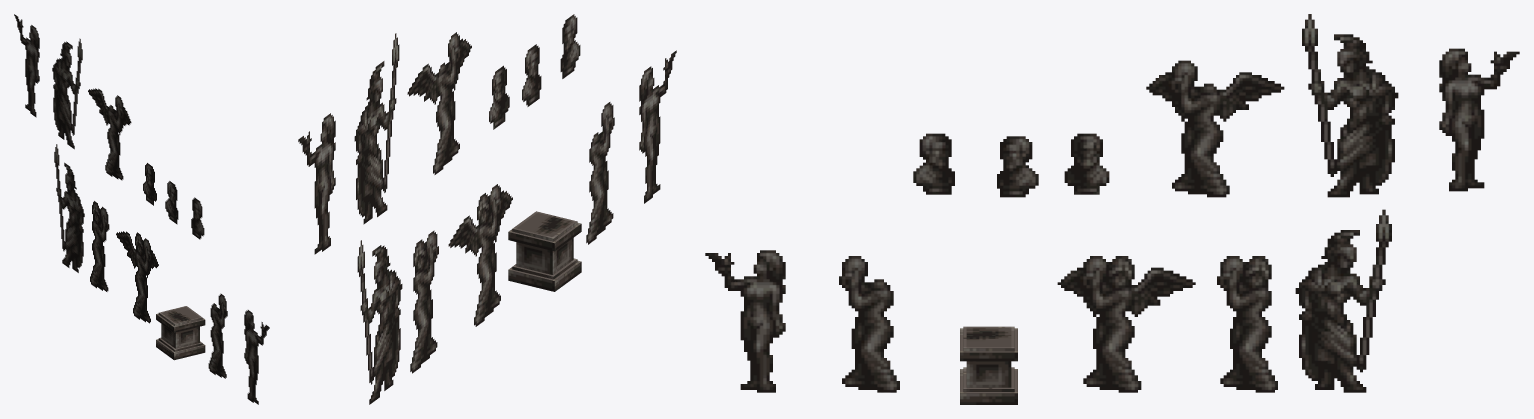
File: EnvObjMD_Statue_B_Sol_L.FBX
3 views of the same model, side by side, from view 1: azimuth 30°, elevation 25°; view 2: azimuth 150°, elevation 25°; view 3: azimuth 270°, elevation 25° (orthographic). The views are drawn at different scales.
Visible parts, largest first — view 1: EnvObjMD_Statue_B_Pedestal, EnvObjMD_Statue_B_Sol_L, EnvObjMD_Statue_B_Sol_R, EnvObjMD_Statue_B_wingB, EnvObjMD_Statue_B_wingA, EnvObjMD_Statue_B_headB, EnvObjMD_Statue_B_Girl_R, EnvObjMD_Statue_B_Girl_L, EnvObjMD_Statue_B_headA, EnvObjMD_Statue_B_Bust_L, EnvObjMD_Statue_B_Bust_R, EnvObjMD_Statue_B_Bust_F; view 2: EnvObjMD_Statue_B_Pedestal, EnvObjMD_Statue_B_Sol_R, EnvObjMD_Statue_B_Sol_L, EnvObjMD_Statue_B_wingB, EnvObjMD_Statue_B_wingA, EnvObjMD_Statue_B_headB, EnvObjMD_Statue_B_Girl_R, EnvObjMD_Statue_B_Girl_L, EnvObjMD_Statue_B_headA, EnvObjMD_Statue_B_Bust_L, EnvObjMD_Statue_B_Bust_F, EnvObjMD_Statue_B_Bust_R; view 3: EnvObjMD_Statue_B_Sol_R, EnvObjMD_Statue_B_Sol_L, EnvObjMD_Statue_B_wingB, EnvObjMD_Statue_B_wingA, EnvObjMD_Statue_B_headB, EnvObjMD_Statue_B_Girl_L, EnvObjMD_Statue_B_Girl_R, EnvObjMD_Statue_B_headA, EnvObjMD_Statue_B_Pedestal, EnvObjMD_Statue_B_Bust_F, EnvObjMD_Statue_B_Bust_R, EnvObjMD_Statue_B_Bust_L.
Part boxes in pixels (x1,y1,x2,y2): EnvObjMD_Statue_B_Pedestal: [156, 306, 205, 360]; EnvObjMD_Statue_B_Sol_L: [54, 144, 84, 272]; EnvObjMD_Statue_B_Sol_R: [52, 38, 82, 149]; EnvObjMD_Statue_B_wingB: [116, 231, 158, 323]; EnvObjMD_Statue_B_wingA: [88, 88, 131, 180]; EnvObjMD_Statue_B_headB: [90, 201, 109, 291]; EnvObjMD_Statue_B_Girl_R: [244, 310, 269, 404]; EnvObjMD_Statue_B_Girl_L: [14, 14, 39, 117]; EnvObjMD_Statue_B_headA: [208, 293, 227, 378]; EnvObjMD_Statue_B_Bust_L: [191, 197, 204, 239]; EnvObjMD_Statue_B_Bust_R: [165, 181, 178, 224]; EnvObjMD_Statue_B_Bust_F: [143, 163, 156, 205]; EnvObjMD_Statue_B_Pedestal: [508, 211, 581, 291]; EnvObjMD_Statue_B_Sol_R: [354, 33, 399, 224]; EnvObjMD_Statue_B_Sol_L: [357, 240, 402, 404]; EnvObjMD_Statue_B_wingB: [448, 184, 512, 326]; EnvObjMD_Statue_B_wingA: [407, 32, 471, 174]; EnvObjMD_Statue_B_headB: [410, 230, 438, 373]; EnvObjMD_Statue_B_Girl_R: [639, 50, 676, 203]; EnvObjMD_Statue_B_Girl_L: [298, 113, 335, 254]; EnvObjMD_Statue_B_headA: [586, 102, 614, 244]; EnvObjMD_Statue_B_Bust_L: [560, 14, 580, 78]; EnvObjMD_Statue_B_Bust_F: [489, 65, 509, 129]; EnvObjMD_Statue_B_Bust_R: [522, 44, 541, 106]; EnvObjMD_Statue_B_Sol_R: [1302, 14, 1398, 197]; EnvObjMD_Statue_B_Sol_L: [1295, 209, 1391, 392]; EnvObjMD_Statue_B_wingB: [1057, 256, 1195, 392]; EnvObjMD_Statue_B_wingA: [1146, 60, 1284, 197]; EnvObjMD_Statue_B_headB: [1217, 256, 1277, 392]; EnvObjMD_Statue_B_Girl_L: [1439, 48, 1519, 191]; EnvObjMD_Statue_B_Girl_R: [705, 250, 785, 392]; EnvObjMD_Statue_B_headA: [839, 256, 899, 392]; EnvObjMD_Statue_B_Pedestal: [960, 326, 1017, 404]; EnvObjMD_Statue_B_Bust_F: [1064, 133, 1109, 194]; EnvObjMD_Statue_B_Bust_R: [997, 136, 1038, 197]; EnvObjMD_Statue_B_Bust_L: [913, 133, 954, 194].
Bounding box in the file's own units: 90 × 651 × 1268.
